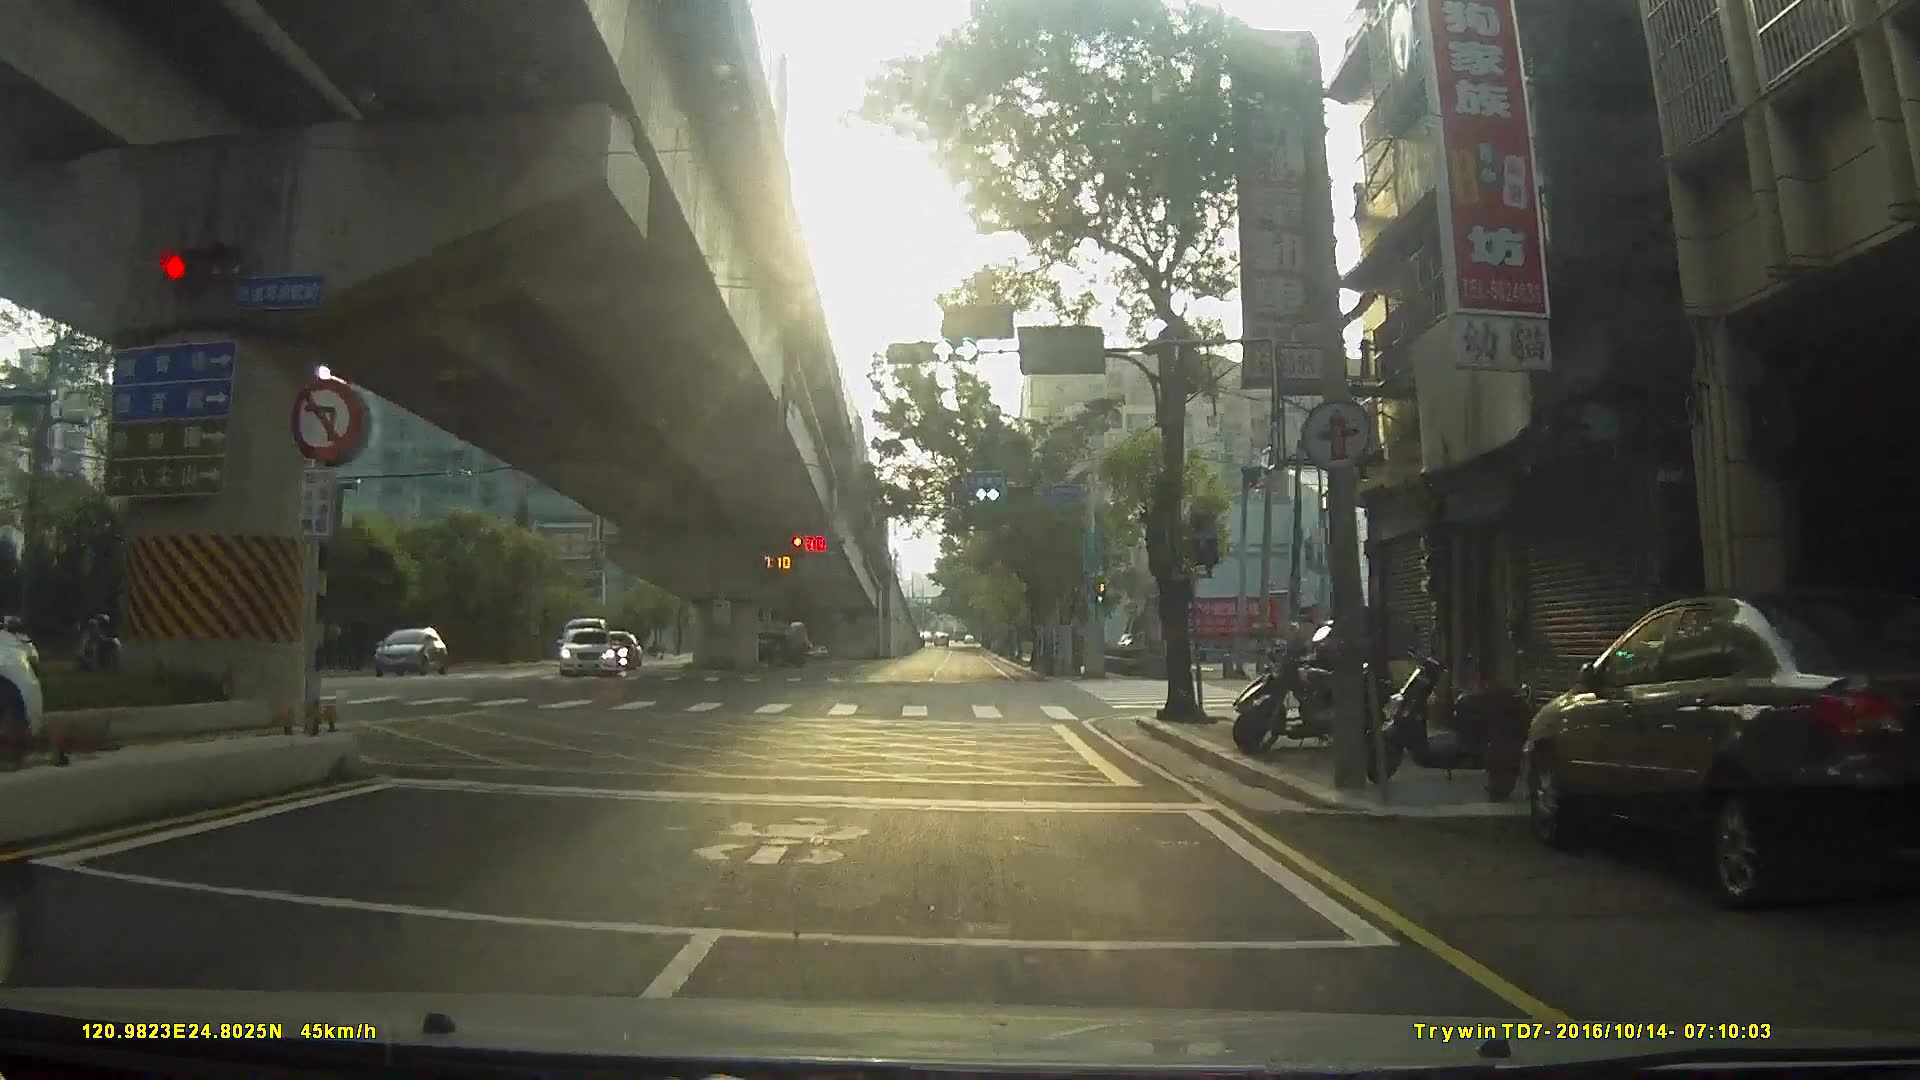vehicle: (1509, 579, 1920, 924), (363, 624, 440, 676), (735, 626, 808, 670), (553, 626, 616, 676)
